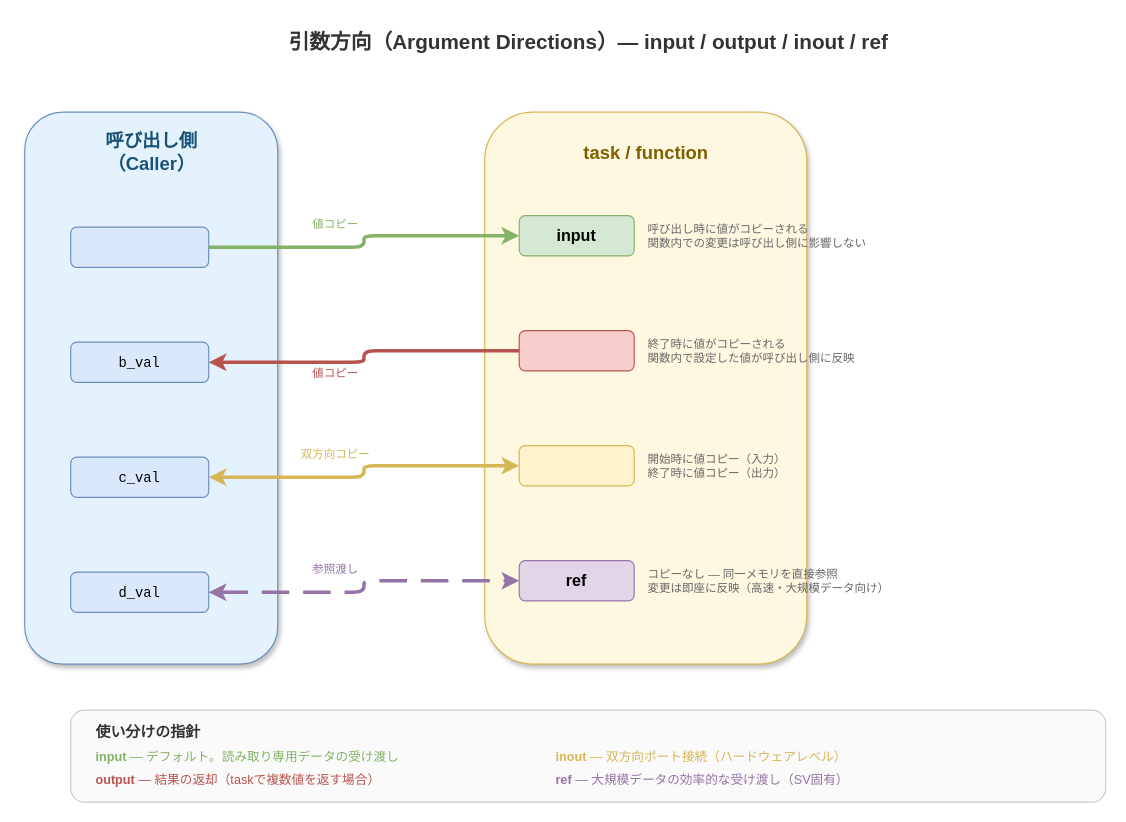
Some shapes in this 1126 by 822 pixel diagram are drawn without their labels. Here are the shapes that lost their labels. From the top down, the centre of each, then its label:
the point at 139,246: a_val
the point at 576,350: output
the point at 576,465: inout
